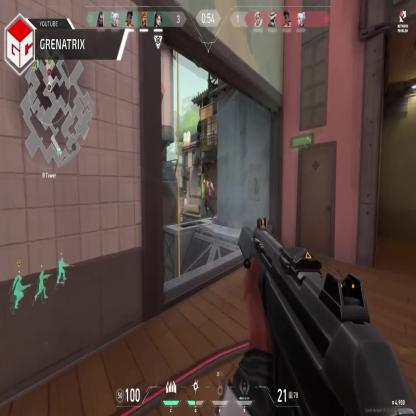enemy: (204, 175, 215, 220)
enemy_head: (208, 175, 210, 183)
